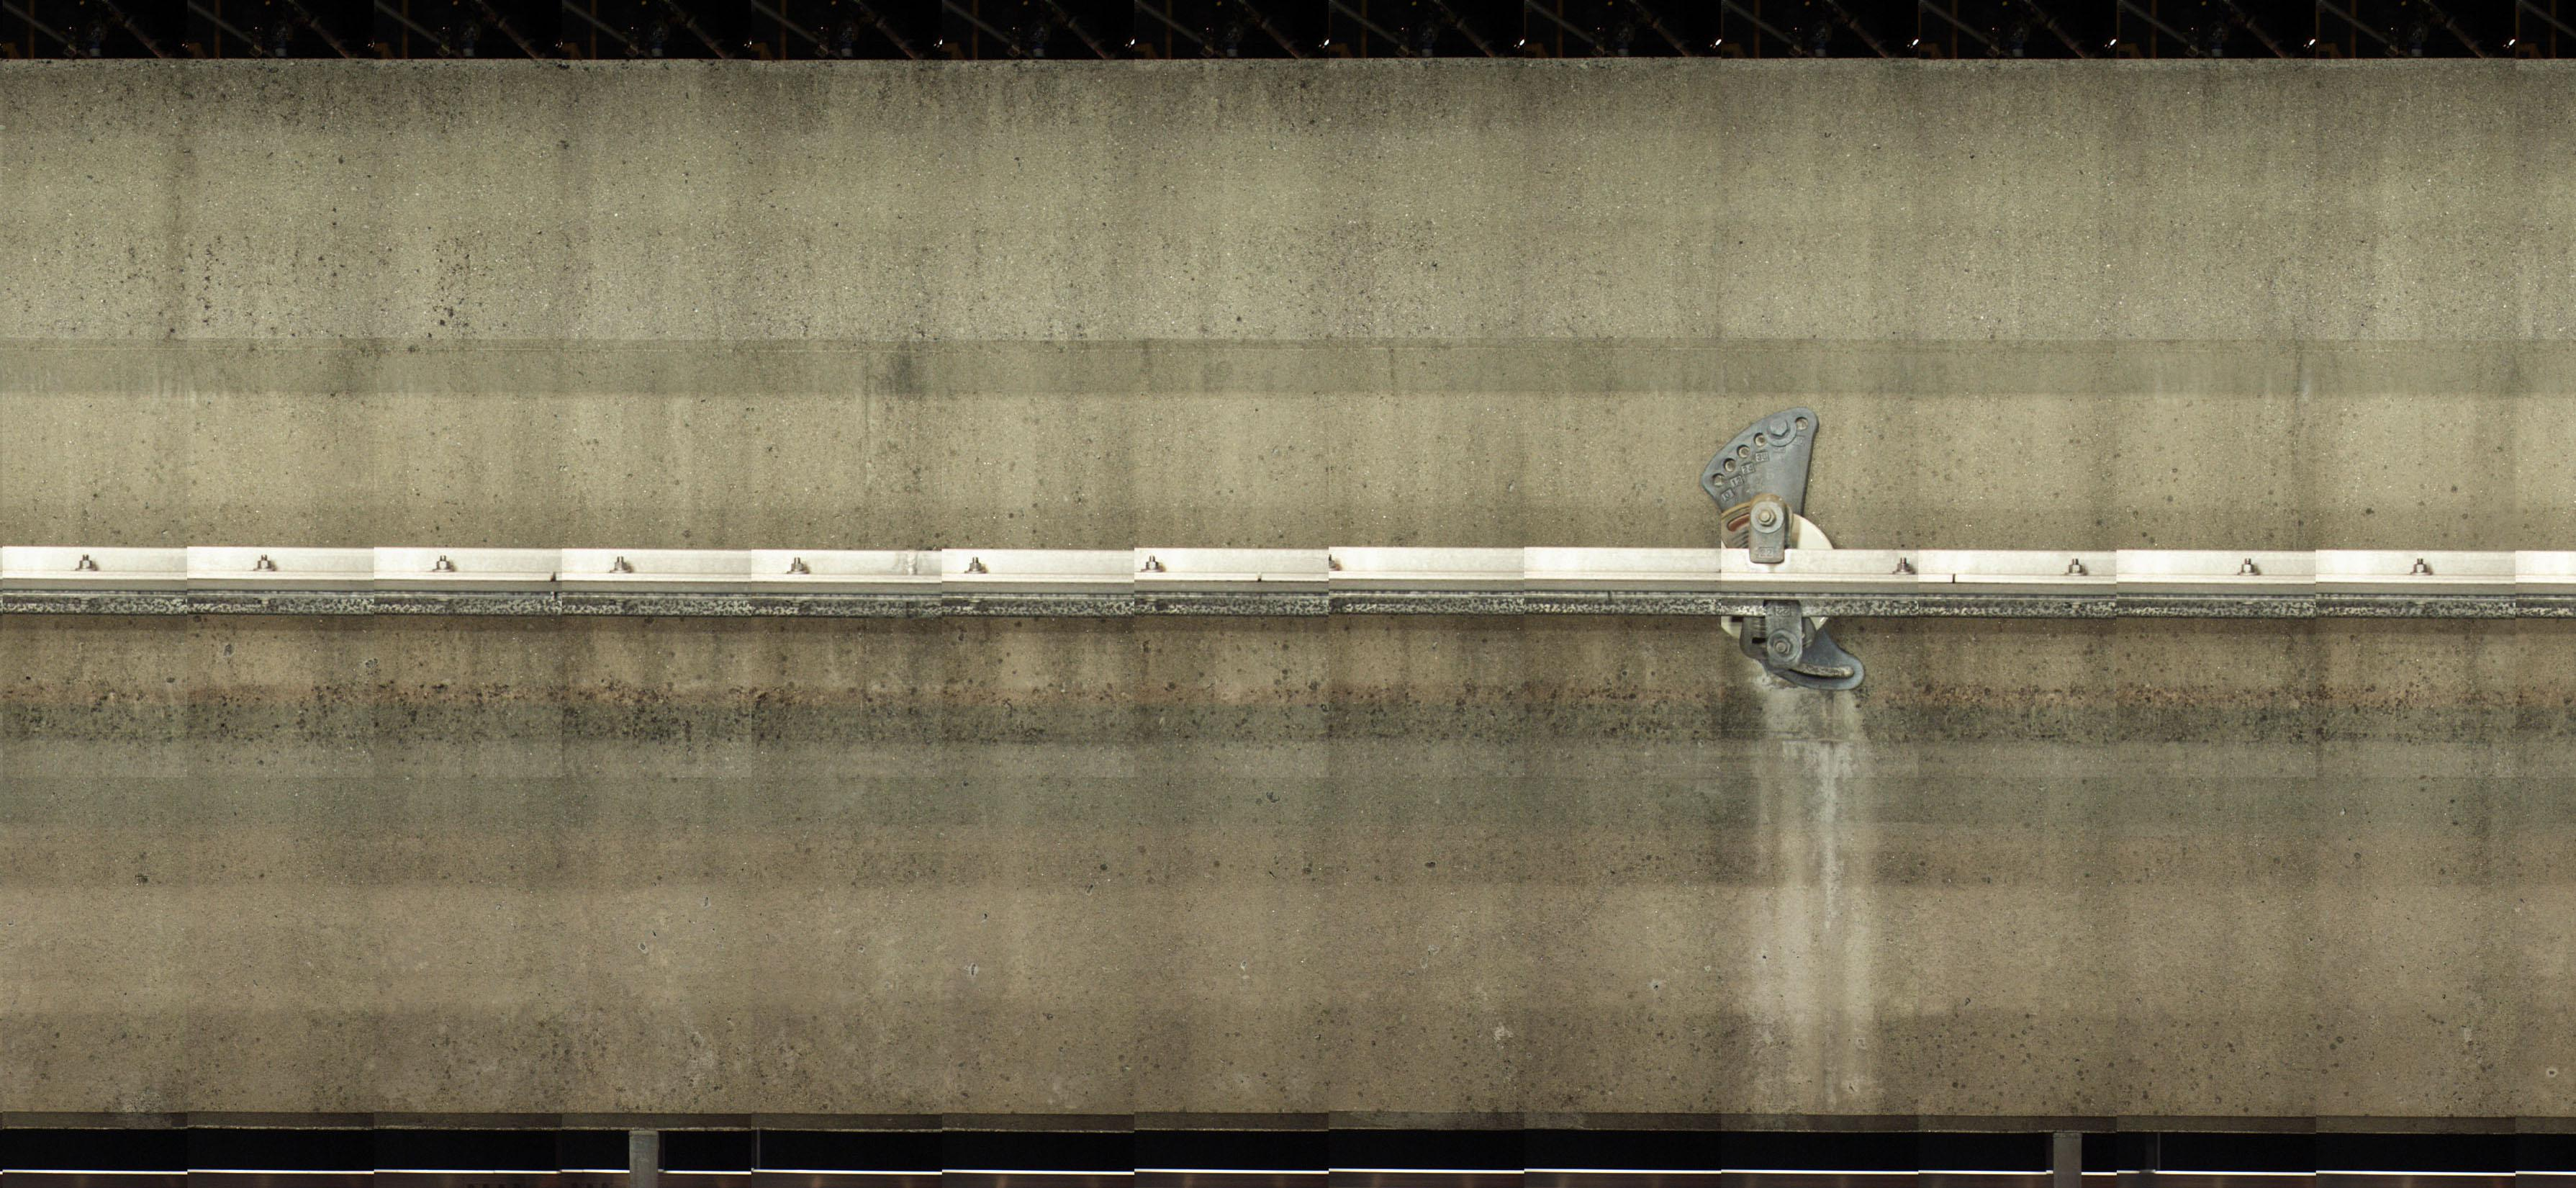concrete: (0, 619, 2566, 1132), (2, 59, 2564, 552)
